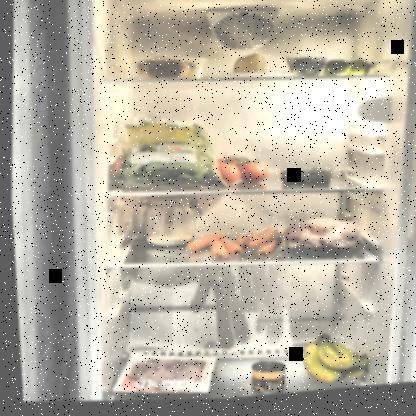banana: (292, 334, 375, 394)
blueberries: (274, 170, 331, 195)
carrot: (181, 223, 285, 271)
cheese: (229, 55, 269, 83)
chicken: (275, 215, 369, 270)
corn: (239, 360, 287, 400)
lime: (314, 61, 377, 89)
potato: (133, 50, 209, 84)
spinach: (106, 110, 228, 202)
tomato: (206, 150, 273, 194)
